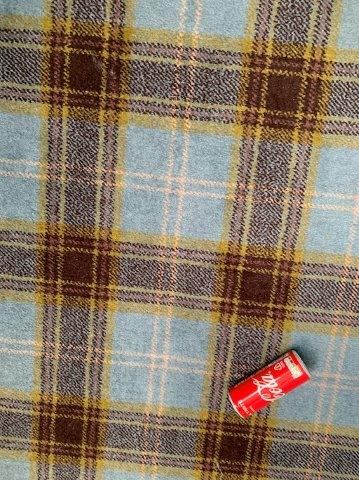kaleng: (230, 351, 310, 418)
